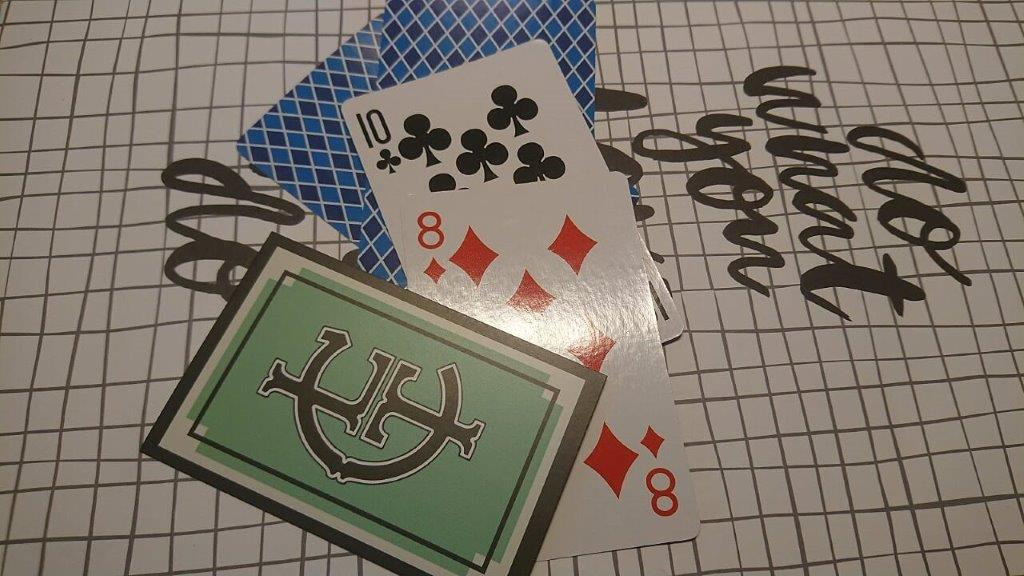10C: (353, 105, 405, 176)
8D: (413, 206, 450, 289)
BACK: (234, 42, 343, 234), (380, 1, 599, 35)
